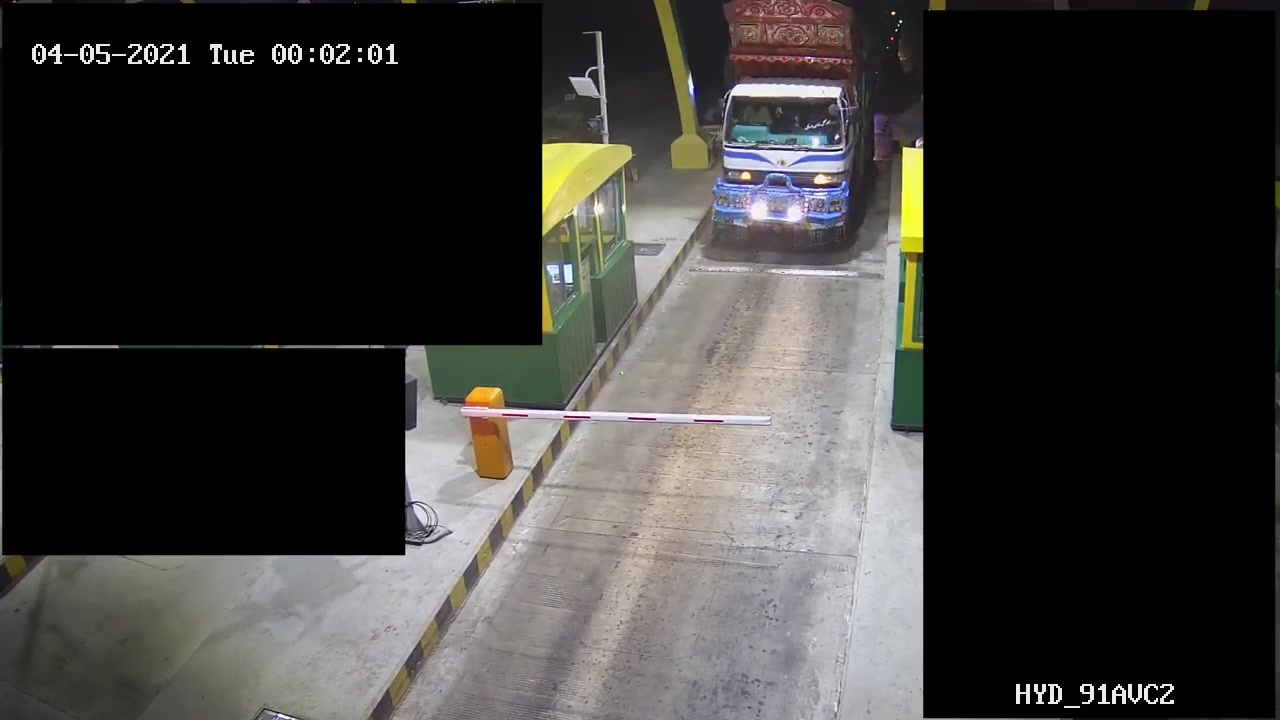F5: (704, 1, 871, 257)
